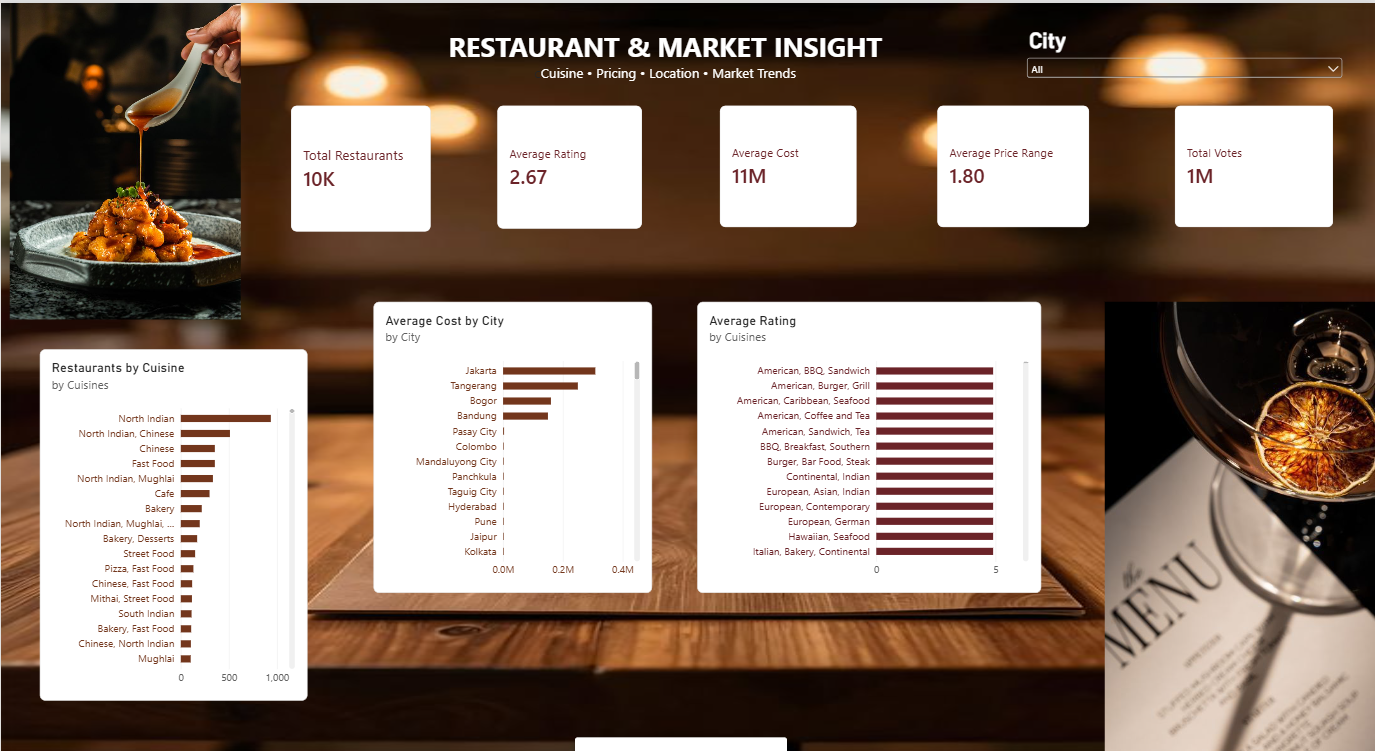

Layout of this report page (visuals, bound fields, positions):
{"tool":"powerbi","page":{"name":"Restaurant & Market Insights","canvas":[1920,1080],"ordinal":2},"visuals":[{"type":"image","box":[0,0,1920.4,1046.5],"z":0},{"type":"image","box":[1540.1,416.9,380.2,629.7],"z":1000},{"type":"image","box":[12.2,0,322.7,441.3],"z":2000},{"type":"textbox","box":[502.3,34.9,849.4,129.1],"z":3000},{"type":"cardVisual","fields":{"Data":["restaurant_cleaned.Total Restaurants"]},"box":[404.7,143,195.3,176.2],"z":4000},{"type":"cardVisual","fields":{"Data":["restaurant_cleaned.Average Rating"]},"box":[692.4,143,202.3,172.7],"z":5000},{"type":"cardVisual","fields":{"Data":["Sum(restaurant_cleaned.Average Cost for two)"]},"box":[1002.9,143,191.9,170.9],"z":6000},{"type":"cardVisual","fields":{"Data":["restaurant_cleaned.Average Price Range"]},"box":[1306.4,143,212.8,170.9],"z":7000},{"type":"cardVisual","fields":{"Data":["restaurant_cleaned.Total Votes"]},"box":[1637.8,143,221.5,170.9],"z":8000},{"type":"clusteredBarChart","fields":{"Category":["restaurant_cleaned.Cuisines"],"Y":["CountNonNull(restaurant_cleaned.Restaurant ID)"]},"box":[54.1,483.1,373.3,490.1],"z":9000},{"type":"clusteredBarChart","fields":{"Category":["restaurant_cleaned.City"],"Y":["restaurant_cleaned.Average Cost"]},"box":[519.8,416.9,389,406.4],"z":10000},{"type":"clusteredBarChart","fields":{"Category":["restaurant_cleaned.Cuisines"],"Y":["restaurant_cleaned.Average Rating"]},"box":[971.5,416.9,479.7,406.4],"z":11000},{"type":"slicer","fields":{"Values":["restaurant_cleaned.City"]},"box":[1426.7,34.9,450,148.3],"z":12000}]}

Visuals, with their boxes in screenshot pixels (x1, y1, x2, y2), scaled from the page's 1920x1080 canvas onto the 1375x751 screenshot:
image: 0, 0, 1374, 728
image: 1103, 290, 1374, 728
image: 9, 0, 240, 307
textbox: 360, 24, 968, 114
cardVisual - restaurant_cleaned.Total Restaurants: 290, 99, 430, 222
cardVisual - restaurant_cleaned.Average Rating: 496, 99, 641, 220
cardVisual - Sum(restaurant_cleaned.Average Cost for two): 718, 99, 856, 218
cardVisual - restaurant_cleaned.Average Price Range: 936, 99, 1088, 218
cardVisual - restaurant_cleaned.Total Votes: 1173, 99, 1332, 218
clusteredBarChart - restaurant_cleaned.Cuisines x CountNonNull(restaurant_cleaned.Restaurant ID): 39, 336, 306, 677
clusteredBarChart - restaurant_cleaned.City x restaurant_cleaned.Average Cost: 372, 290, 651, 572
clusteredBarChart - restaurant_cleaned.Cuisines x restaurant_cleaned.Average Rating: 696, 290, 1039, 572
slicer - restaurant_cleaned.City: 1022, 24, 1344, 127
